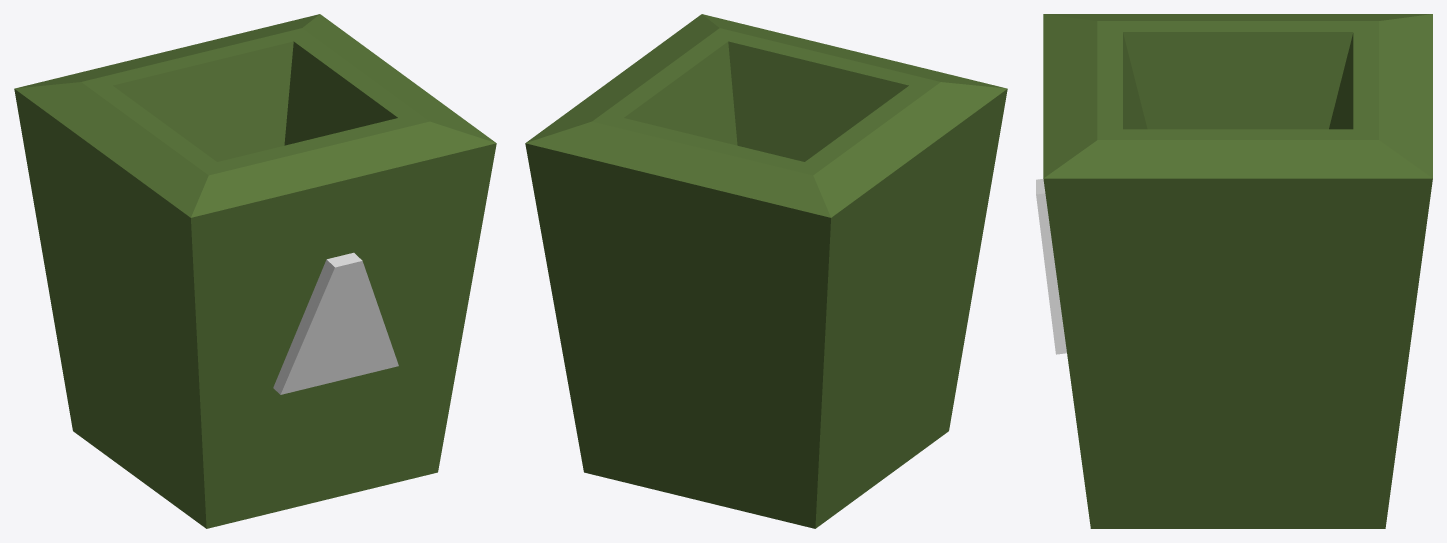
File: trash.fbx
3 views of the same model, side by side, from view 1: azimuth 30°, elevation 25°; view 2: azimuth 150°, elevation 25°; view 3: azimuth 270°, elevation 25° (orthographic). The views are drawn at different scales.
Parts seen in each view (by area): view 1: Cube124; view 2: Cube124; view 3: Cube124.
Boxes of the visible parts, box(x1,y1,x2,y2) form: Cube124: box(14, 14, 496, 528); Cube124: box(525, 14, 1007, 528); Cube124: box(1036, 14, 1432, 528).
Size of the model in its own units: 264 by 289 by 269.
